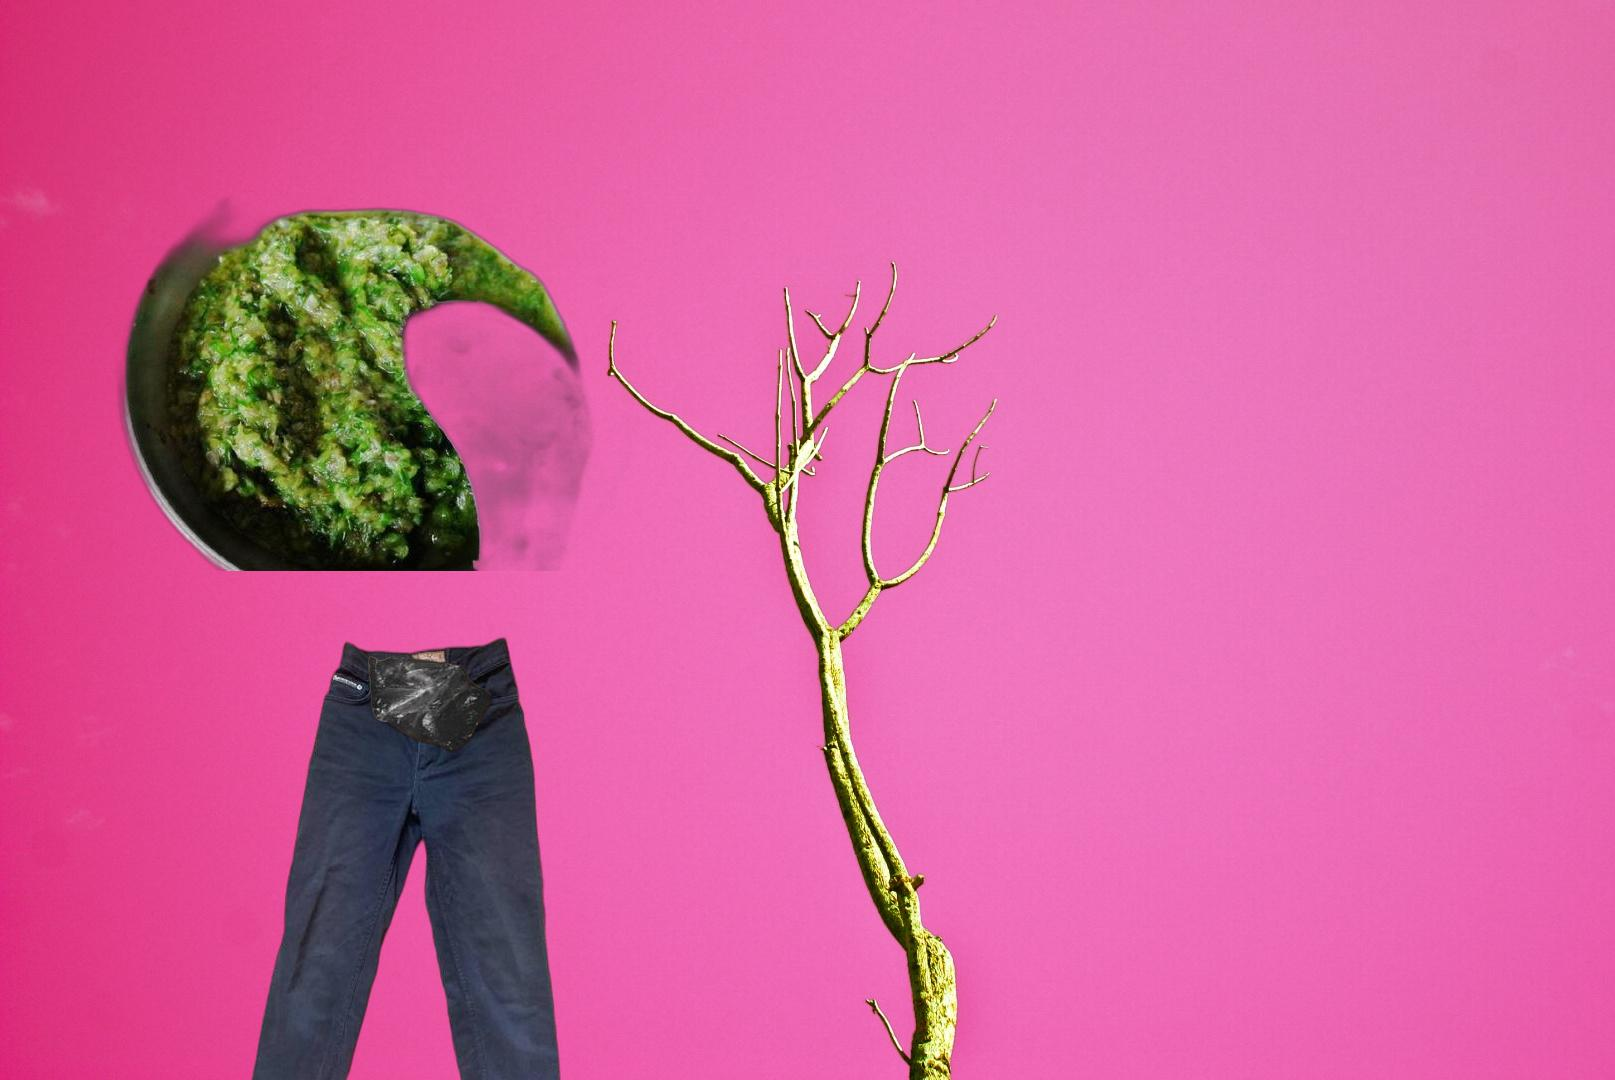biological: (114, 160, 644, 571)
clothes: (243, 624, 566, 1080)
plastic-bag: (366, 653, 495, 755)
